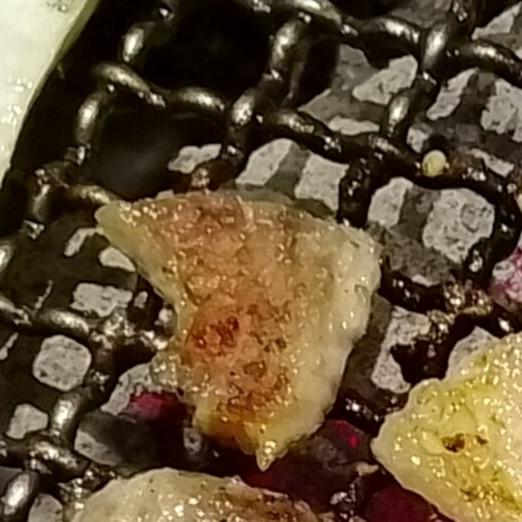Well-Cooked: (93, 191, 381, 473), (370, 333, 521, 521), (71, 469, 350, 521)
